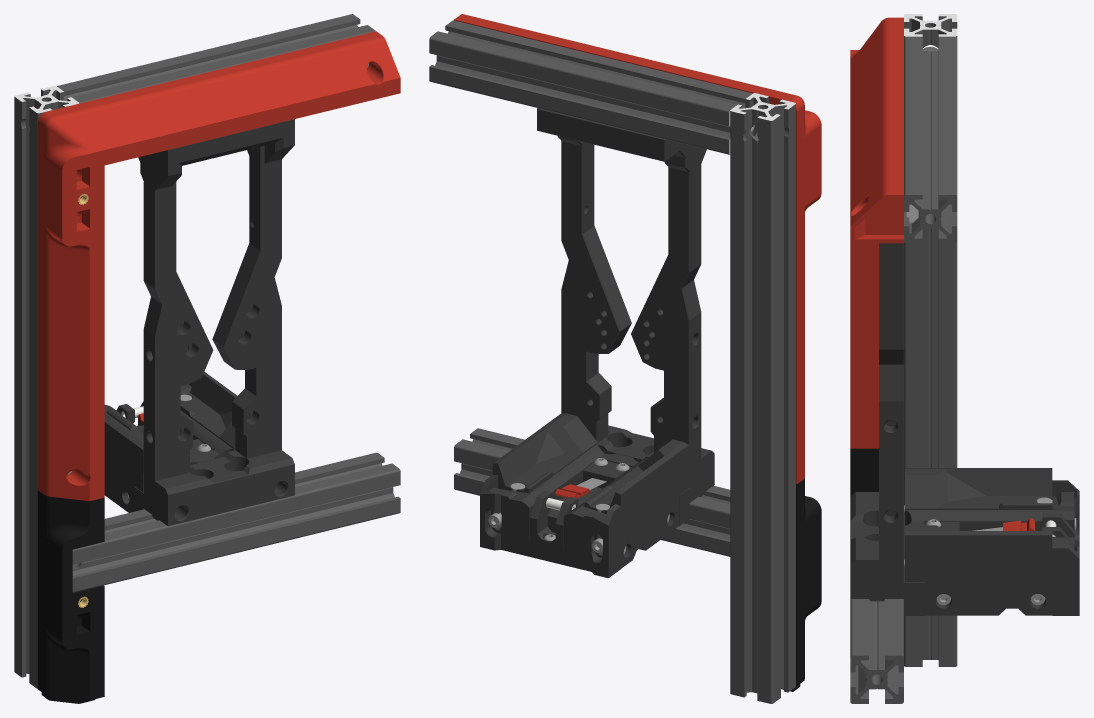
The picture shows the model from 3 angles, left to right: view 1: azimuth 30°, elevation 25°; view 2: azimuth 150°, elevation 25°; view 3: azimuth 270°, elevation 25°; orthographic projection. The views are drawn at different scales.
Parts seen in each view (by area): view 1: DB Accent, Crossbar, HFSB5-2020-430-LCP-RCP (3) (1), Frame Right, Frame Left, DB Primary, Crossbar Bottom, HFSB5-2020-370-TPW (3), Base, Crossbar Top; view 2: HFSB5-2020-430-LCP-RCP (3) (1), HFSB5-2020-370-TPW (3), Frame Right, Frame Left, Base, DB Accent, Back, Crossbar, Crossbar Top, DB Primary, Crossbar Bottom, PTFE Wiper; view 3: Base, DB Accent, HFSB5-2020-430-LCP-RCP (3) (1), HFSB5-2020-370-TPW (3), Frame Right, Crossbar, Crossbar Bottom, Back, DB Primary, PTFE Wiper.
Boxes of the visible parts, x1,y1,x2,y2 form: DB Accent: [37, 31, 400, 501]; Crossbar: [72, 452, 400, 592]; HFSB5-2020-430-LCP-RCP (3) (1): [14, 86, 79, 688]; Frame Right: [212, 146, 281, 458]; Frame Left: [143, 182, 213, 480]; DB Primary: [37, 490, 104, 703]; Crossbar Bottom: [134, 450, 294, 526]; HFSB5-2020-370-TPW (3): [57, 14, 375, 103]; Base: [104, 372, 237, 512]; Crossbar Top: [138, 119, 294, 189]; HFSB5-2020-430-LCP-RCP (3) (1): [730, 93, 795, 703]; HFSB5-2020-370-TPW (3): [429, 20, 752, 154]; Frame Right: [561, 140, 631, 442]; Frame Left: [631, 159, 701, 466]; Base: [492, 413, 688, 568]; DB Accent: [454, 14, 821, 484]; Back: [480, 475, 620, 578]; Crossbar: [454, 428, 730, 556]; Crossbar Top: [537, 108, 706, 171]; DB Primary: [781, 477, 821, 691]; Crossbar Bottom: [597, 425, 714, 525]; PTFE Wiper: [529, 490, 578, 549]; Base: [905, 468, 1052, 615]; DB Accent: [850, 17, 903, 448]; HFSB5-2020-430-LCP-RCP (3) (1): [904, 14, 957, 666]; HFSB5-2020-370-TPW (3): [904, 36, 957, 243]; Frame Right: [879, 242, 904, 559]; Crossbar: [850, 599, 903, 703]; Crossbar Bottom: [850, 492, 924, 615]; Back: [1052, 480, 1079, 615]; DB Primary: [850, 448, 878, 496]; PTFE Wiper: [1042, 513, 1074, 536].
Size of the model in its own units: 0.16 by 0.263 by 0.0857.
